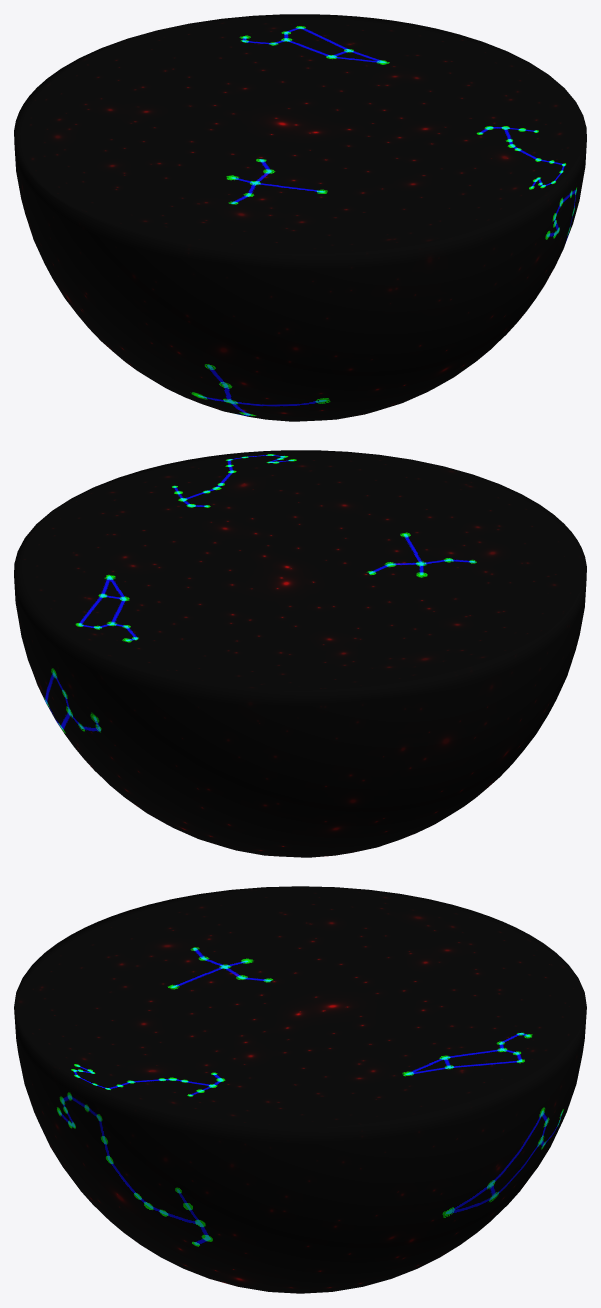
Rendered from S_WaterSphereClosed.fbx.
3 views of the same model, one above another, from view 1: azimuth 30°, elevation 25°; view 2: azimuth 150°, elevation 25°; view 3: azimuth 270°, elevation 25° (orthographic).
Parts seen in each view (by area): view 1: HalfSphere.001; view 2: HalfSphere.001; view 3: HalfSphere.001.
Boxes of the visible parts, x1,y1,x2,y2 form: HalfSphere.001: [14, 14, 586, 421]; HalfSphere.001: [14, 450, 586, 857]; HalfSphere.001: [14, 886, 586, 1293].
Size of the model in its own units: 100 by 50 by 100.
